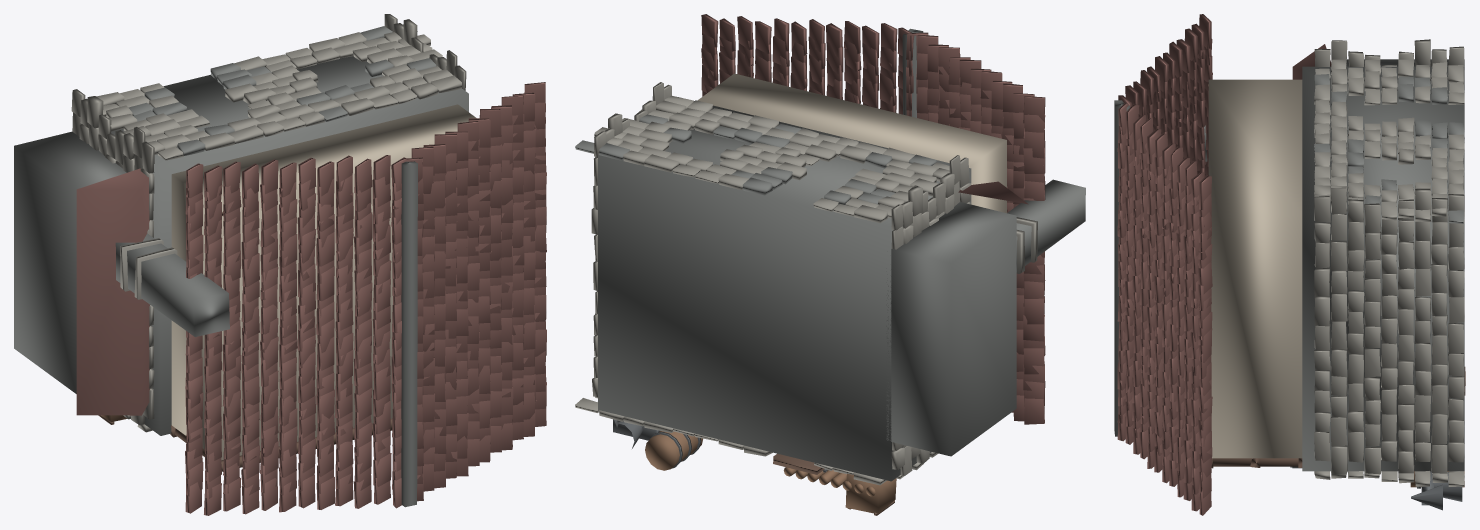
File: blacksmith_hd.glb
3 views of the same model, side by side, from view 1: azimuth 30°, elevation 25°; view 2: azimuth 150°, elevation 25°; view 3: azimuth 270°, elevation 25° (orthographic). The views are drawn at different scales.
Size of the model in its own units: 9.24 by 7.77 by 7.13.
